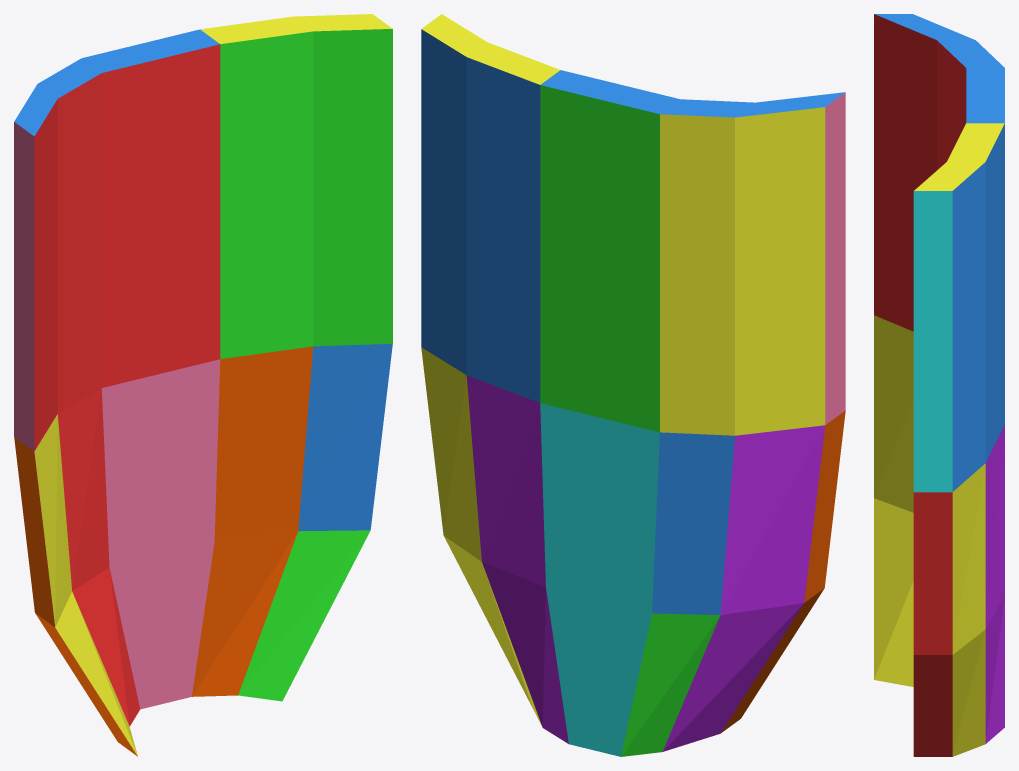
File: shield.obj
The picture shows the model from 3 angles, left to right: view 1: azimuth 30°, elevation 25°; view 2: azimuth 150°, elevation 25°; view 3: azimuth 270°, elevation 25°; orthographic projection. The views are drawn at different scales.
Visible parts, largest first — view 1: model; view 2: model; view 3: model.
Boxes of the visible parts, x1=… form: model: x1=14, y1=14, x2=392, y2=756; model: x1=421, y1=14, x2=845, y2=756; model: x1=874, y1=14, x2=1004, y2=756.
Bounding box in the file's own units: 0.4526 × 0.7364 × 0.1415.
